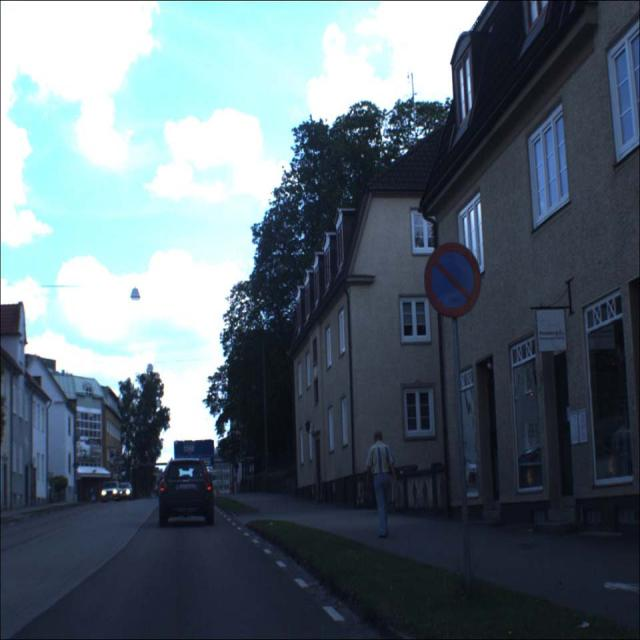parkyasak: (424, 243, 480, 318)
